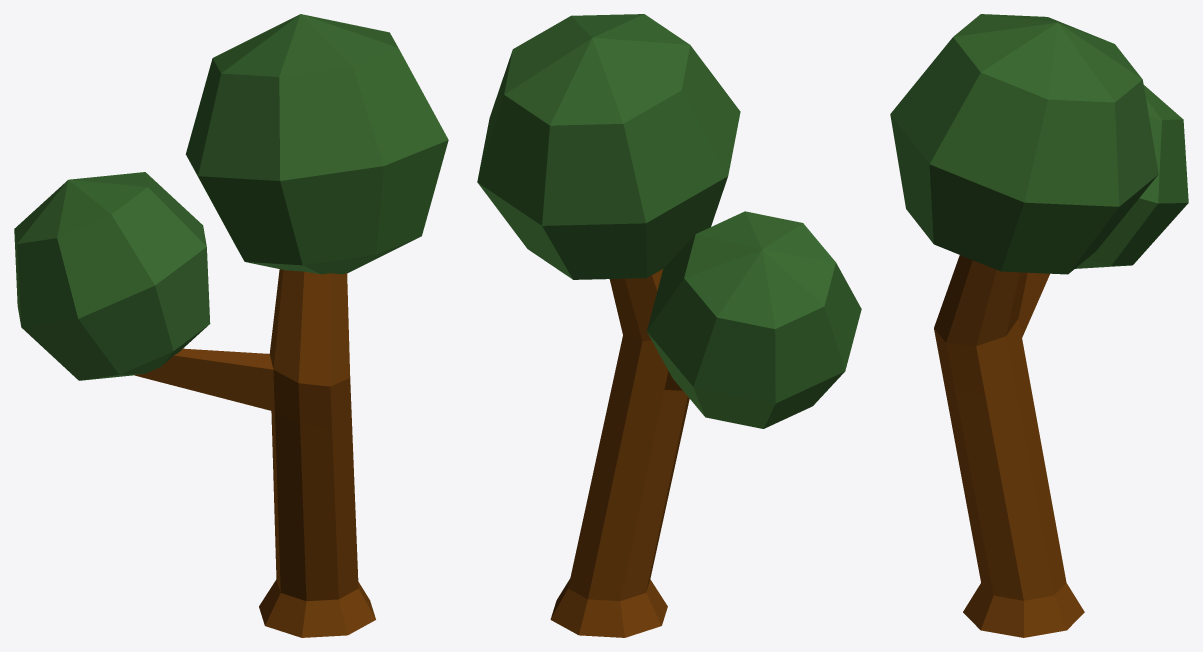
Rendered from Tree3.fbx.
3 renders of one model, left to right at view 1: azimuth 30°, elevation 25°; view 2: azimuth 150°, elevation 25°; view 3: azimuth 270°, elevation 25°, orthographic.
Visible parts, largest first — view 1: Tree3; view 2: Tree3; view 3: Tree3.
Boxes of the visible parts, bbox=[...] form: Tree3: bbox=[14, 14, 448, 637]; Tree3: bbox=[477, 14, 861, 637]; Tree3: bbox=[890, 14, 1188, 637].
Size of the model in its own units: 523 by 761 by 349.
Materials: 2 (2 with a texture image).
